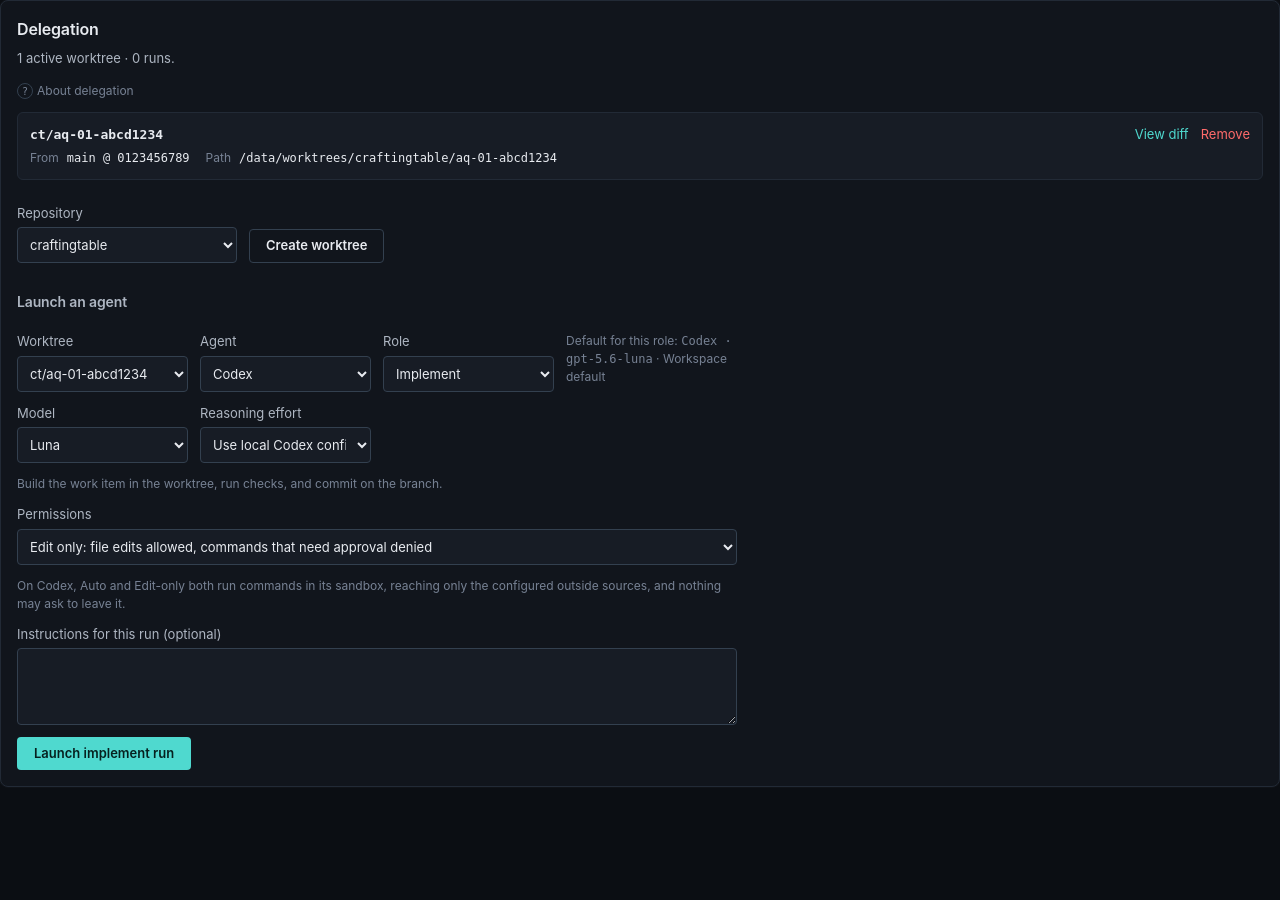
run profiles › pre-fills the launch form from the role profile and follows role changes
Check: the dropdown labelled "Agent" shows "Codex", box [200,356,371,392]
Check: the dropdown labelled "Model" shows "Luna", box [17,427,188,463]
Select "Review" in the dropdown labelled "Role": point(468, 374) [383,356,554,392]
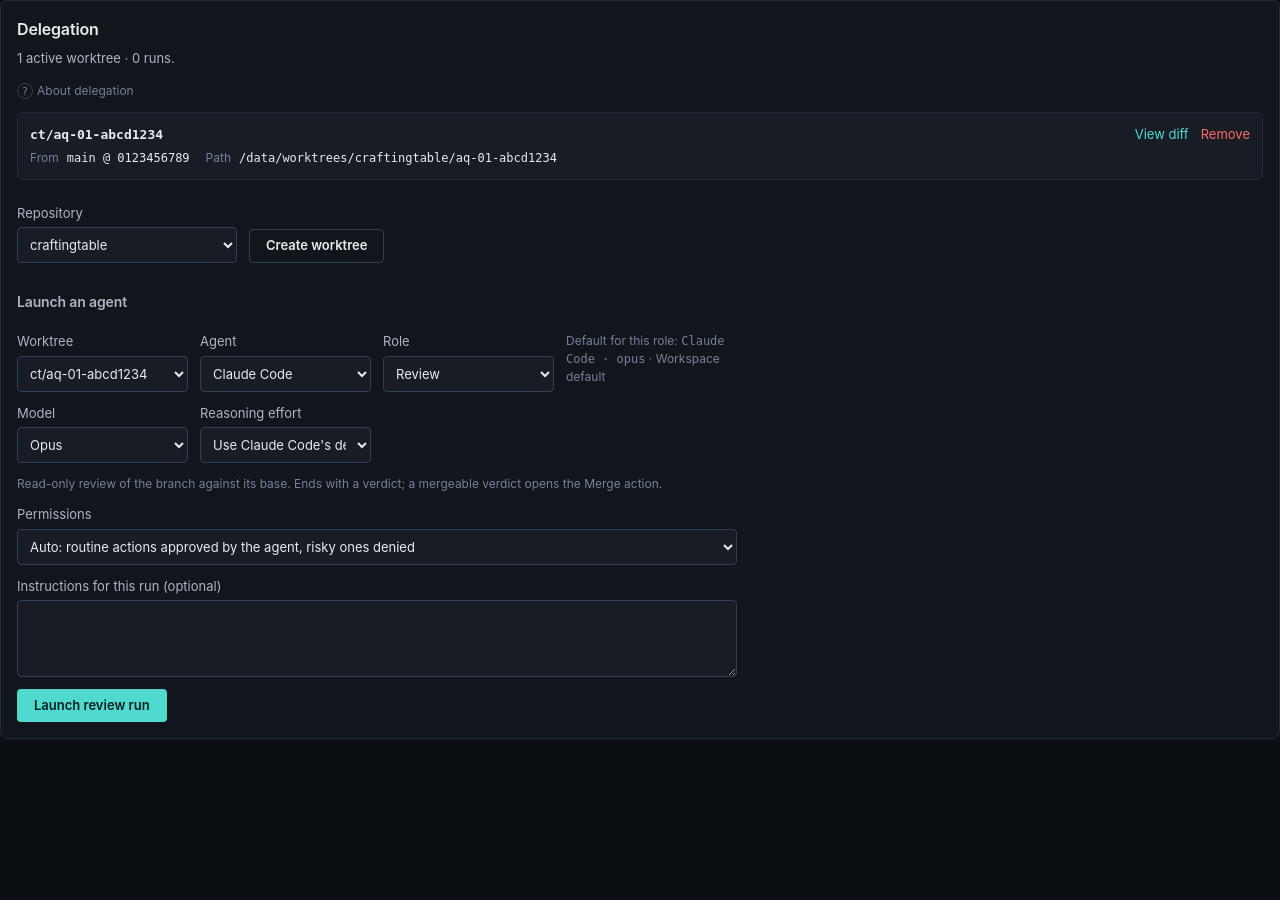
Check: the dropdown labelled "Agent" shows "Claude Code", box [200,356,371,392]
Check: the dropdown labelled "Model" shows "Opus", box [17,427,188,463]
Check: the dropdown labelled "Permissions" shows "Auto: routine actions approved by the agent, risky ones denied", box [17,528,737,564]
